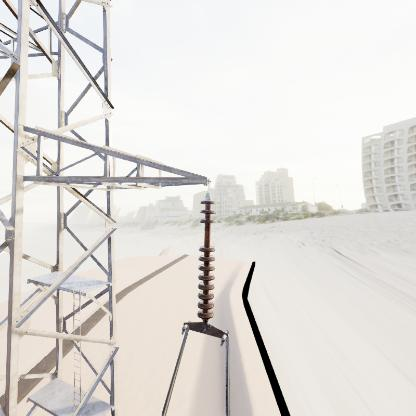insulator: (197, 195, 218, 325)
